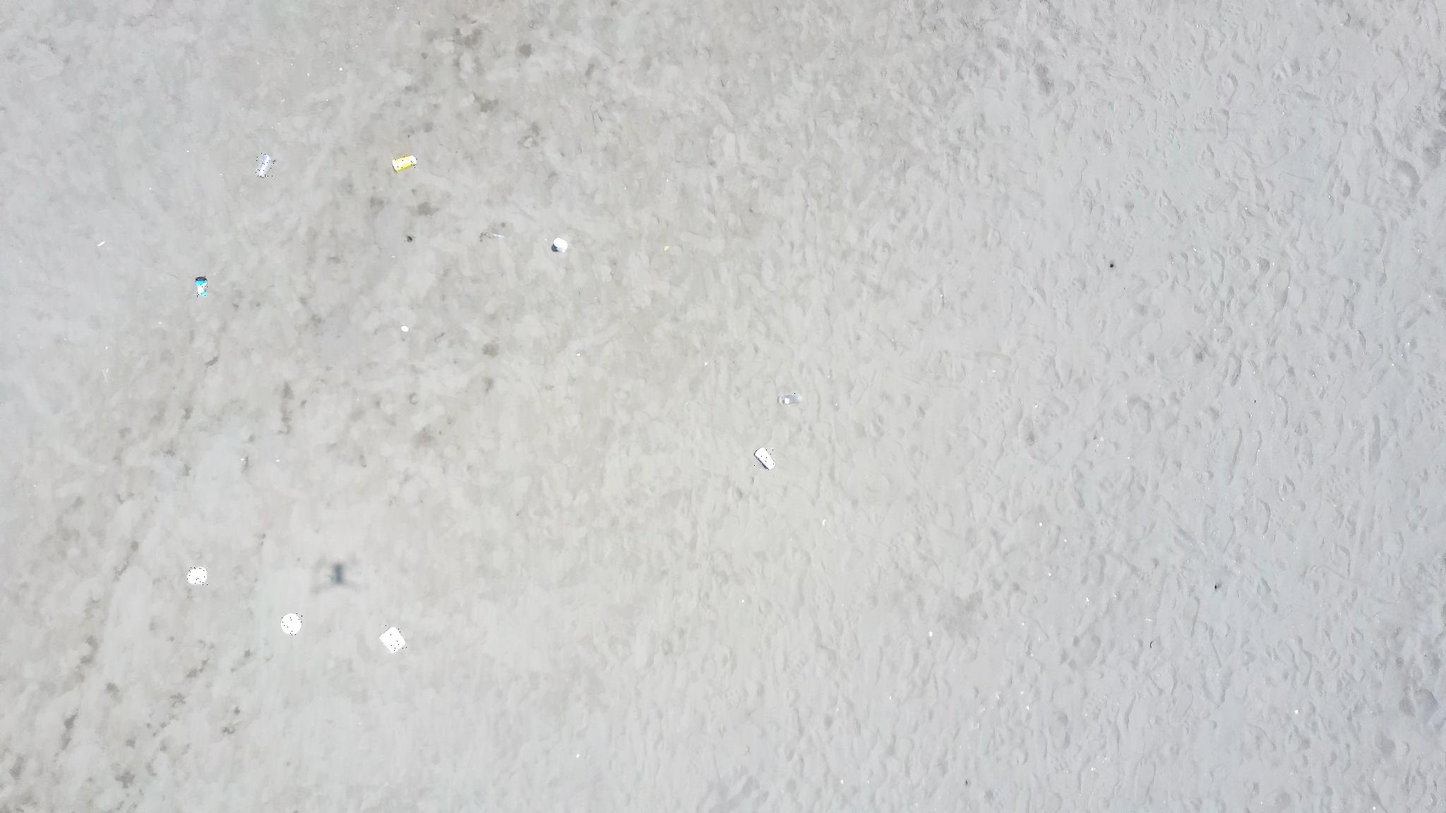Garbage: (379, 626, 403, 652), (754, 448, 775, 469), (282, 613, 301, 635), (256, 153, 273, 176), (393, 155, 417, 171), (186, 567, 207, 584), (330, 562, 344, 585), (778, 392, 801, 404), (552, 237, 568, 252), (195, 277, 206, 296), (482, 231, 503, 237), (97, 240, 105, 247), (400, 325, 408, 331)
